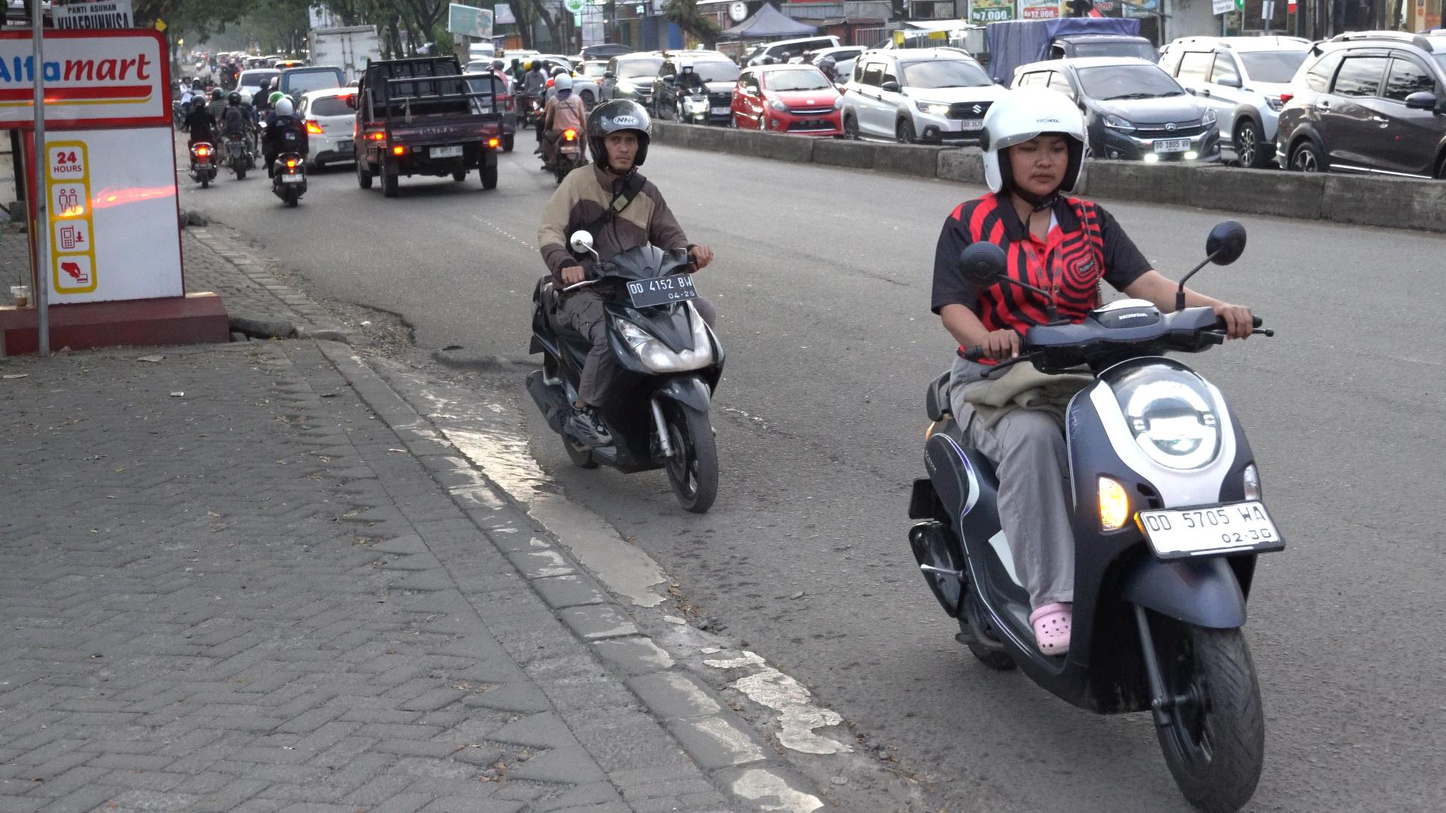number-plate: (1142, 499, 1286, 553), (625, 278, 698, 307)
